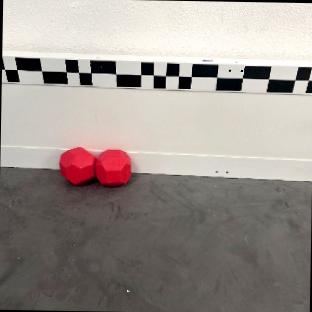V5_RED: (58, 145, 133, 188)
